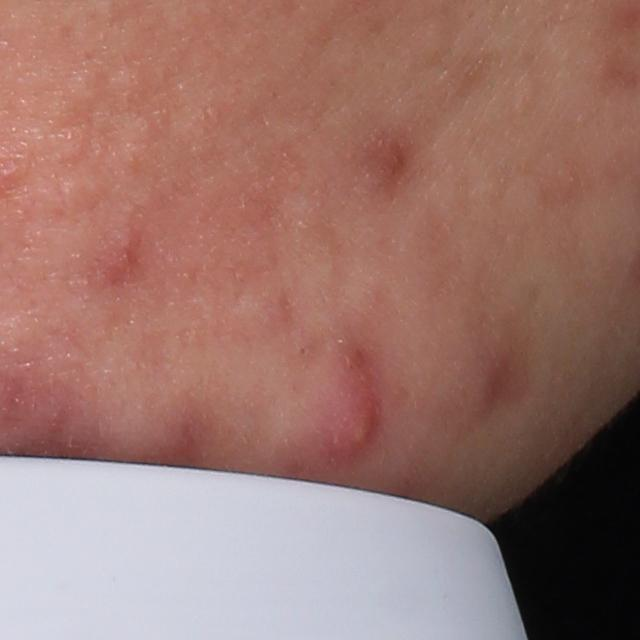hypertrophic_scar: (53, 167, 111, 215), (63, 64, 101, 110), (108, 65, 150, 103)
papule: (319, 375, 384, 477), (100, 218, 144, 279)
